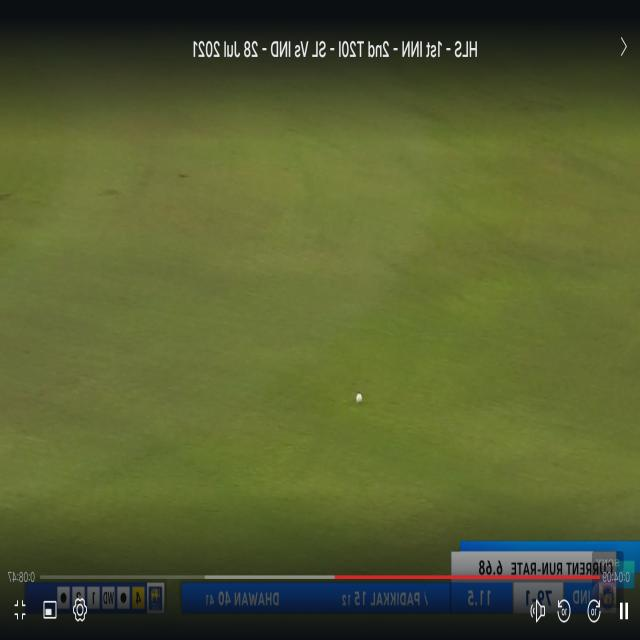ball: (356, 391, 362, 405)
